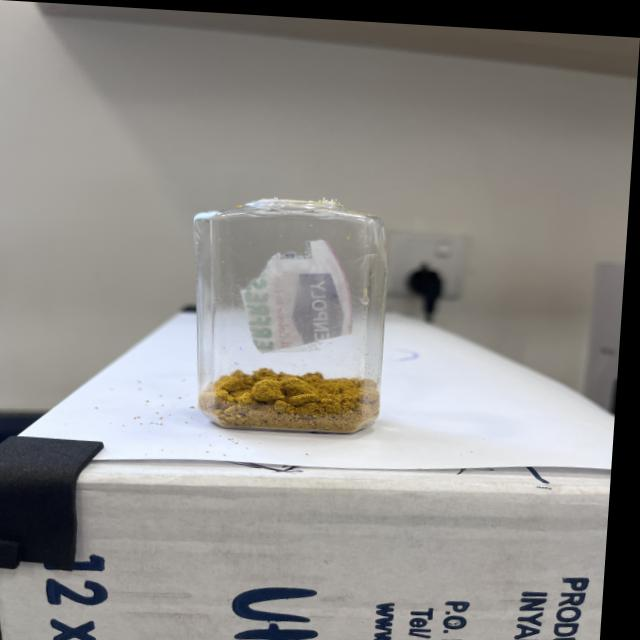curry_powder: (202, 360, 386, 434)
